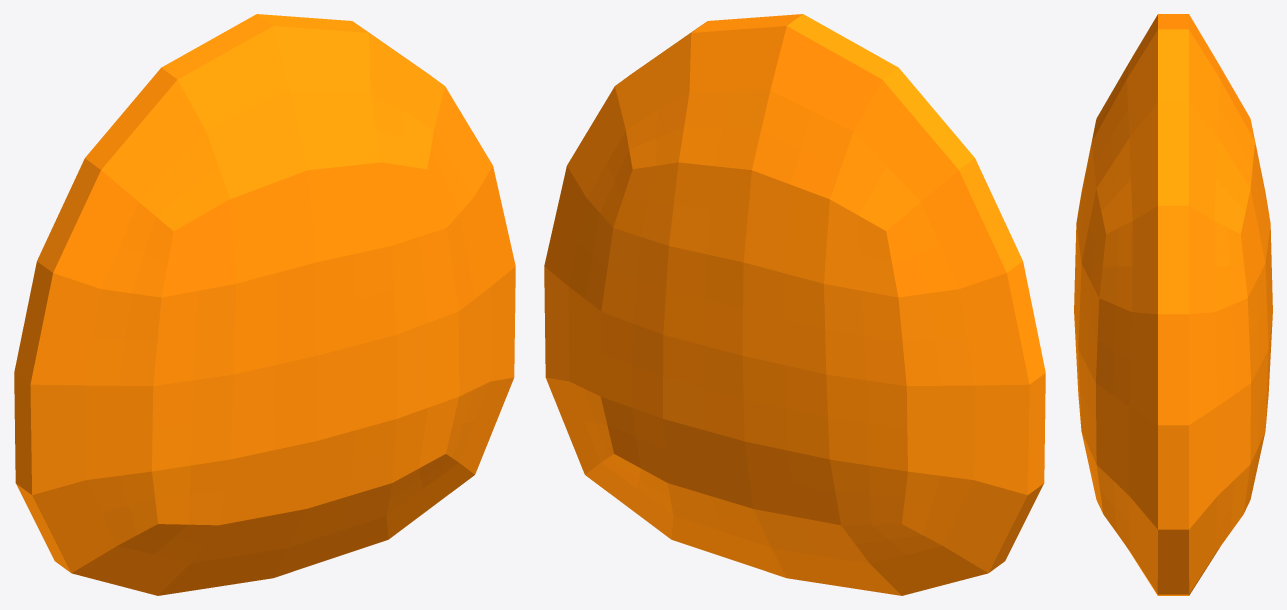
Rendered from citrine.glb.
The picture shows the model from 3 angles, left to right: view 1: azimuth 30°, elevation 25°; view 2: azimuth 150°, elevation 25°; view 3: azimuth 270°, elevation 25°; orthographic projection. The views are drawn at different scales.
Visible parts, largest first — view 1: Cube; view 2: Cube; view 3: Cube.
Part boxes in pixels (left/top/right/bottom): Cube: left=14, top=14, right=515, bottom=595; Cube: left=544, top=14, right=1045, bottom=595; Cube: left=1074, top=14, right=1272, bottom=595.
Size of the model in its own units: 0.1026 by 0.1115 by 0.0385.
